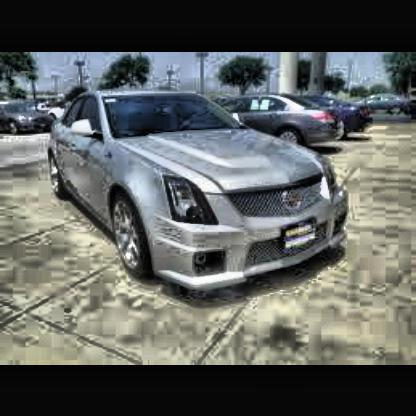Cadillac CTS-V Sedan 2012: (48, 91, 353, 294)
